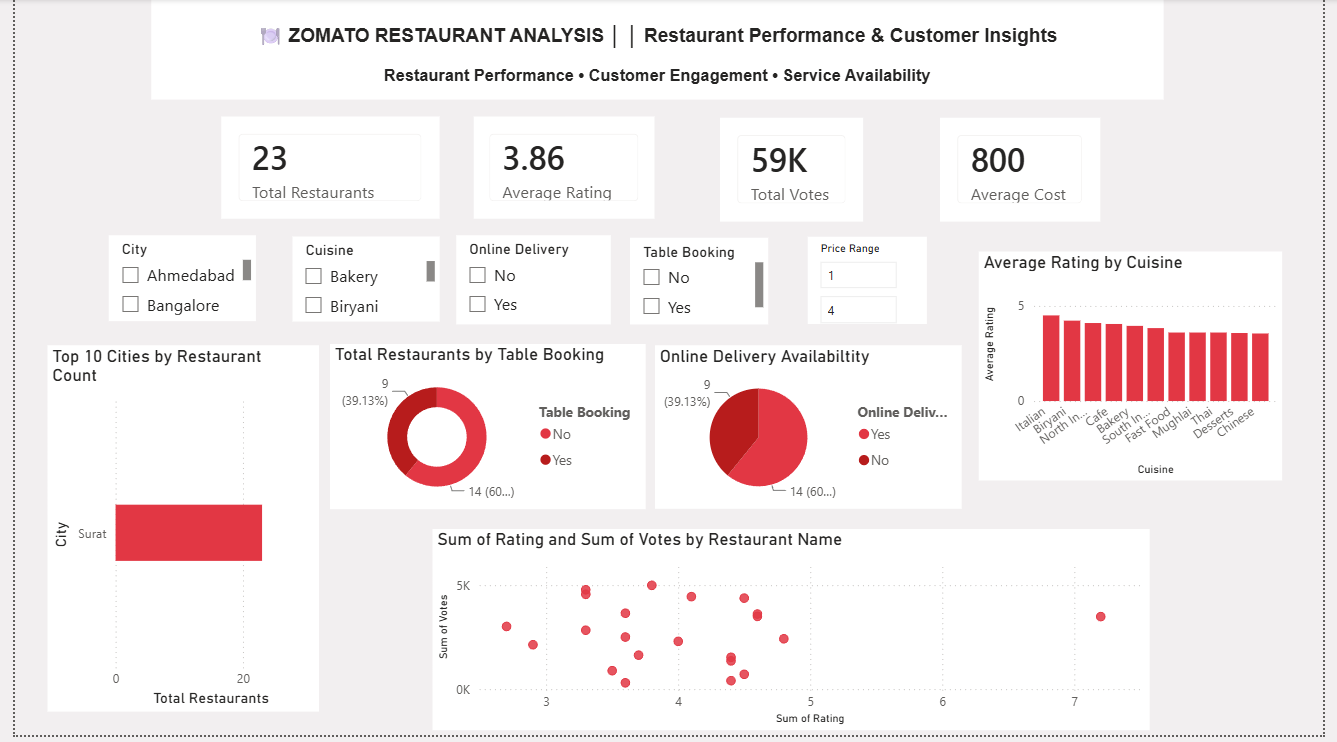

Layout of this report page (visuals, bound fields, positions):
{"tool":"powerbi","page":{"name":"Page 1","canvas":[1280,720],"ordinal":0},"visuals":[{"type":"cardVisual","fields":{"Data":["Zomato.Total Restaurants"]},"box":[201.7,115,213.3,100],"z":0},{"type":"cardVisual","fields":{"Data":["Zomato.Average Rating"]},"box":[448.3,115,176.7,100],"z":1000},{"type":"cardVisual","fields":{"Data":["Zomato.Total Votes"]},"box":[690,116.7,140,101.7],"z":2000},{"type":"cardVisual","fields":{"Data":["Zomato.Average Cost"]},"box":[905,116.7,156.7,101.7],"z":3000},{"type":"clusteredBarChart","title":"Top 10 Cities by Restaurant Count","fields":{"Category":["Zomato.City"],"Y":["Zomato.Total Restaurants"]},"box":[31.4,338.6,265.7,358.6],"z":4000},{"type":"clusteredColumnChart","fields":{"Y":["Zomato.Average Rating"],"Category":["Zomato.Cuisine"]},"box":[942.9,247.1,297.1,224.3],"z":5000},{"type":"pieChart","title":"Online Delivery Availabiltity","fields":{"Category":["Zomato.Online Delivery"],"Y":["Zomato.Total Restaurants"]},"box":[625.7,338.6,300,160],"z":6000},{"type":"donutChart","fields":{"Category":["Zomato.Table Booking"],"Y":["Zomato.Total Restaurants"]},"box":[308.6,337.1,308.6,161.4],"z":7000},{"type":"textbox","box":[133.3,0,990,98.3],"z":8000},{"type":"scatterChart","fields":{"X":["Sum(Zomato.Rating)"],"Y":["Sum(Zomato.Votes)"],"Category":["Zomato.Restaurant Name"]},"box":[408.3,518.3,701.7,196.7],"z":8001},{"type":"slicer","fields":{"Values":["Zomato.City"]},"box":[91.4,231.4,144.3,84.3],"z":8003},{"type":"slicer","fields":{"Values":["Zomato.Cuisine"]},"box":[271.4,232.9,144.3,82.9],"z":8004},{"type":"slicer","fields":{"Values":["Zomato.Price Range"]},"box":[775.7,232.9,117.1,85.7],"z":8005},{"type":"slicer","fields":{"Values":["Zomato.Online Delivery"]},"box":[431.4,231.4,151.4,87.1],"z":8006},{"type":"slicer","fields":{"Values":["Zomato.Table Booking"]},"box":[601.7,233.3,135,85],"z":8007}]}

Visuals, with their boxes in screenshot pixels (x1, y1, x2, y2), scaled from the page's 1280x720 canvas onto the 1337x742 screenshot:
cardVisual - Zomato.Total Restaurants: Rect(211, 119, 433, 222)
cardVisual - Zomato.Average Rating: Rect(468, 119, 653, 222)
cardVisual - Zomato.Total Votes: Rect(721, 120, 867, 225)
cardVisual - Zomato.Average Cost: Rect(945, 120, 1109, 225)
"Top 10 Cities by Restaurant Count" clusteredBarChart: Rect(33, 349, 310, 719)
clusteredColumnChart - Zomato.Average Rating x Zomato.Cuisine: Rect(985, 255, 1295, 486)
"Online Delivery Availabiltity" pieChart: Rect(654, 349, 967, 514)
donutChart - Zomato.Table Booking x Zomato.Total Restaurants: Rect(322, 347, 645, 514)
textbox: Rect(139, 0, 1173, 101)
scatterChart - Sum(Zomato.Rating) x Sum(Zomato.Votes): Rect(426, 534, 1159, 737)
slicer - Zomato.City: Rect(95, 238, 246, 325)
slicer - Zomato.Cuisine: Rect(283, 240, 434, 325)
slicer - Zomato.Price Range: Rect(810, 240, 933, 328)
slicer - Zomato.Online Delivery: Rect(451, 238, 609, 328)
slicer - Zomato.Table Booking: Rect(628, 240, 770, 328)
